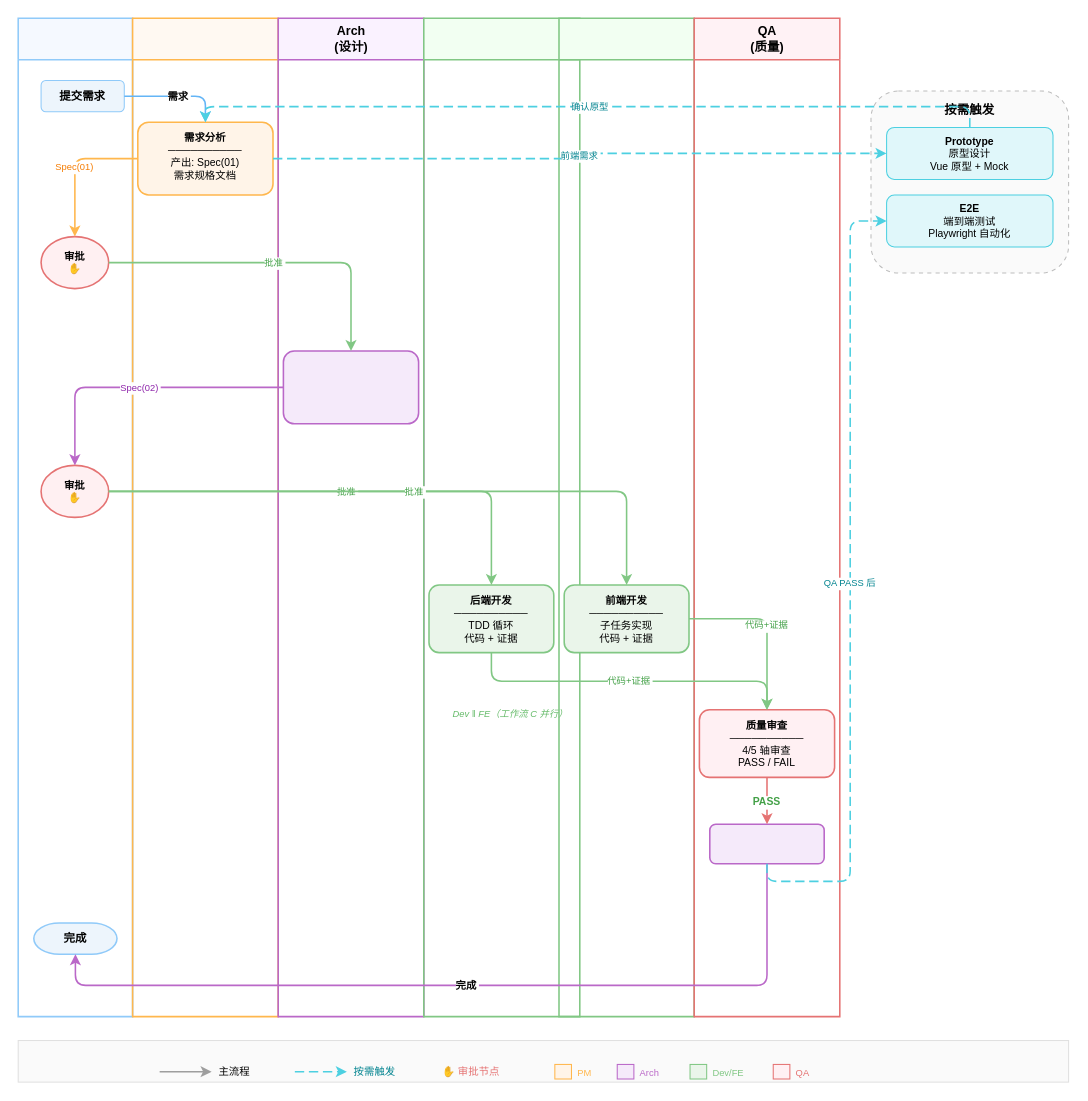
Some shapes in this 1088 by 1101 pixel diagram are drawn without their labels. The box of each missing label's shape, as (x1, y1, x2, y2) in pixels:
Dev (后端): (423, 17, 580, 1017)
FE (前端): (558, 17, 695, 1017)
PM (需求): (131, 17, 279, 1017)
合并 + 部署: (709, 823, 825, 864)
图例: (17, 1039, 1069, 1082)
技术设计 ────────── 产出: Spec(02) 技术设计文档: (282, 350, 419, 424)
用户 (调度): (17, 17, 133, 1017)
